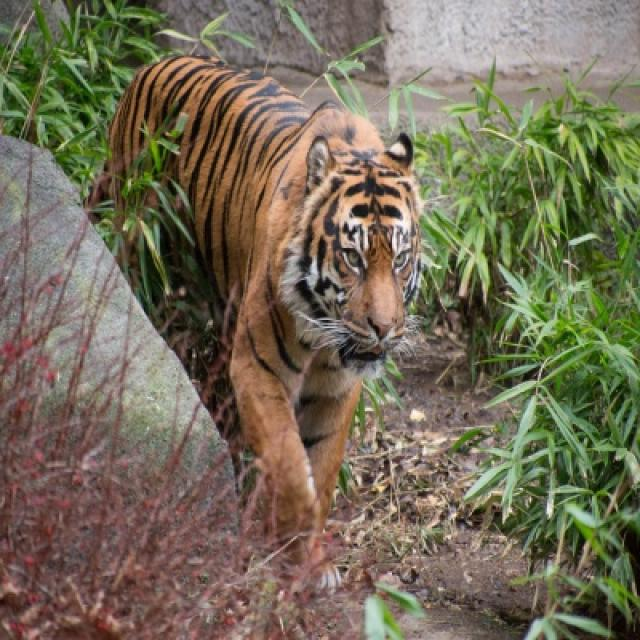Tiger: (77, 56, 422, 546)
